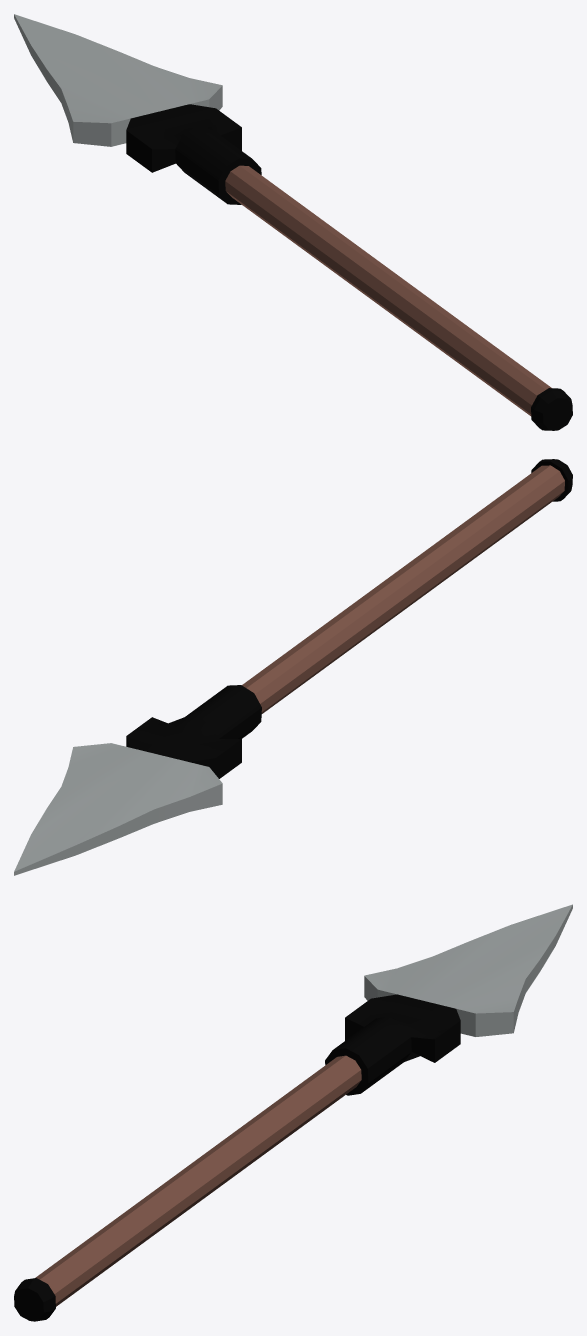
File: lanza.fbx
3 views of the same model, one above another, from view 1: azimuth 30°, elevation 25°; view 2: azimuth 150°, elevation 25°; view 3: azimuth 330°, elevation 25° (orthographic).
Visible parts, largest first — view 1: pPlane1; view 2: pPlane1; view 3: pPlane1.
Part boxes in pixels (x1,y1,x2,y2): pPlane1: [14, 14, 572, 430]; pPlane1: [14, 459, 572, 875]; pPlane1: [14, 904, 572, 1321].
Size of the model in its own units: 1 by 0.3011 by 6.3.
